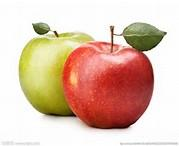apple: (62, 43, 155, 131), (15, 28, 97, 118)
